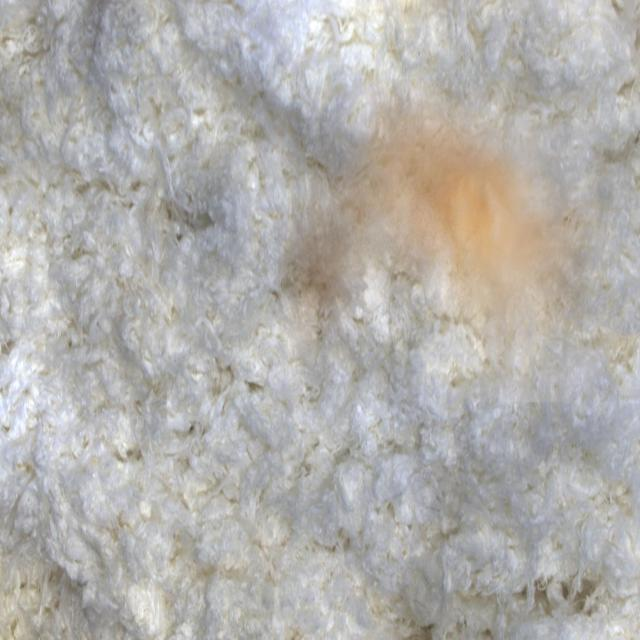dust: (278, 79, 614, 403)
